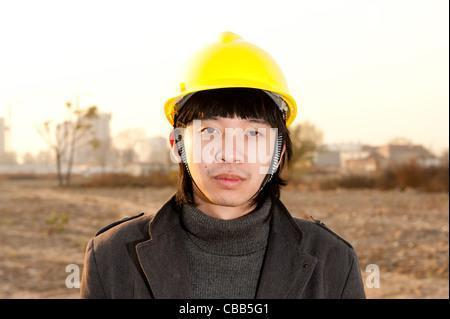helmet: (164, 31, 297, 122)
